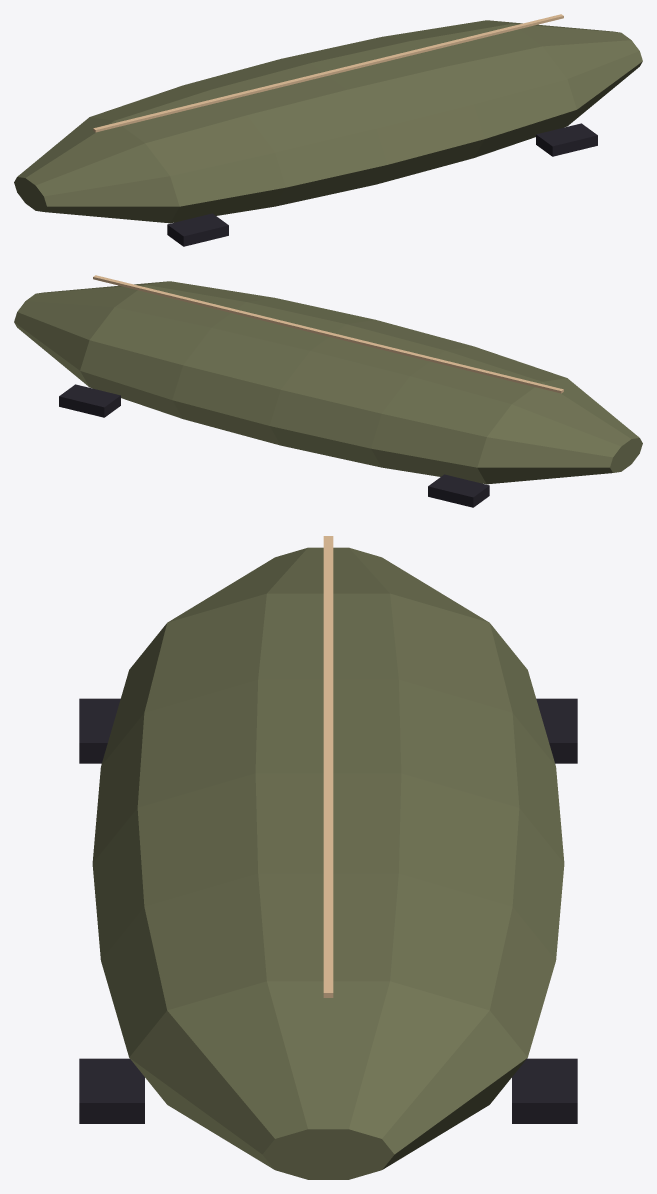
Rendered from decay.body-bag.glb.
3 views of the same model, one above another, from view 1: azimuth 30°, elevation 25°; view 2: azimuth 150°, elevation 25°; view 3: azimuth 270°, elevation 25° (orthographic). The views are drawn at different scales.
Parts seen in each view (by area): view 1: body; view 2: body; view 3: body.
Part boxes in pixels (x1,y1,x2,y2): body: (14,14,642,246); body: (14,275,642,507); body: (79,536,577,1179).
Size of the model in its own units: 2.1 by 0.3192 by 0.76.
